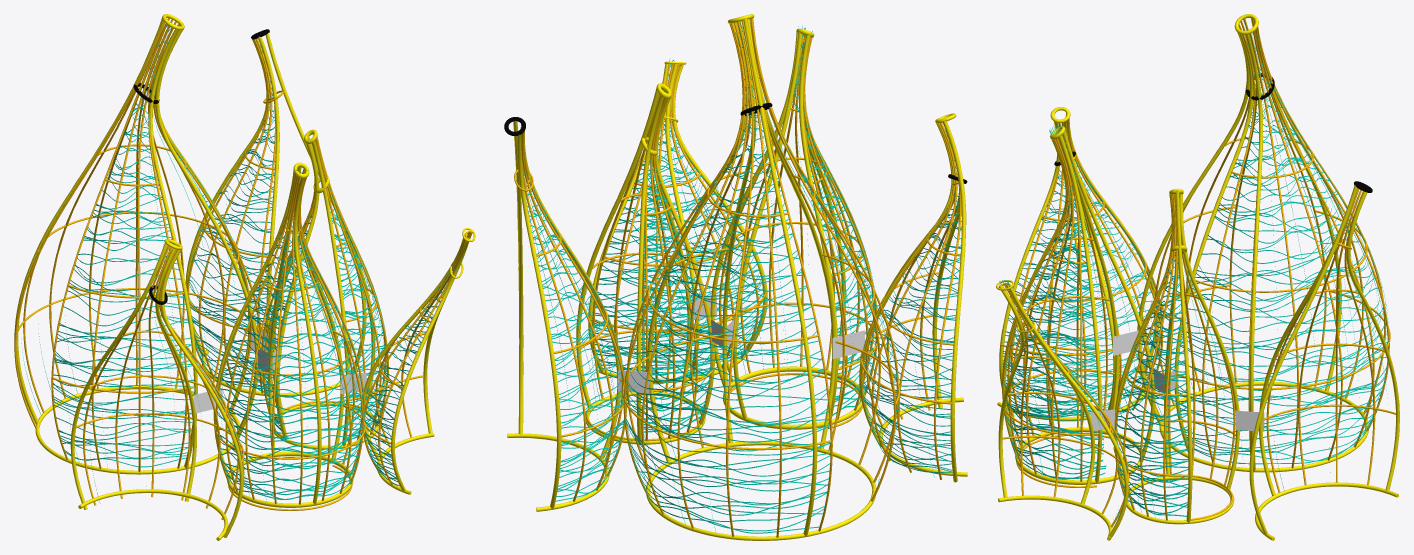
The model's file is garlic.glb.
3 views of the same model, side by side, from view 1: azimuth 30°, elevation 25°; view 2: azimuth 150°, elevation 25°; view 3: azimuth 270°, elevation 25° (orthographic). The views are drawn at different scales.
Size of the model in its own units: 4077 by 4777 by 4058.
